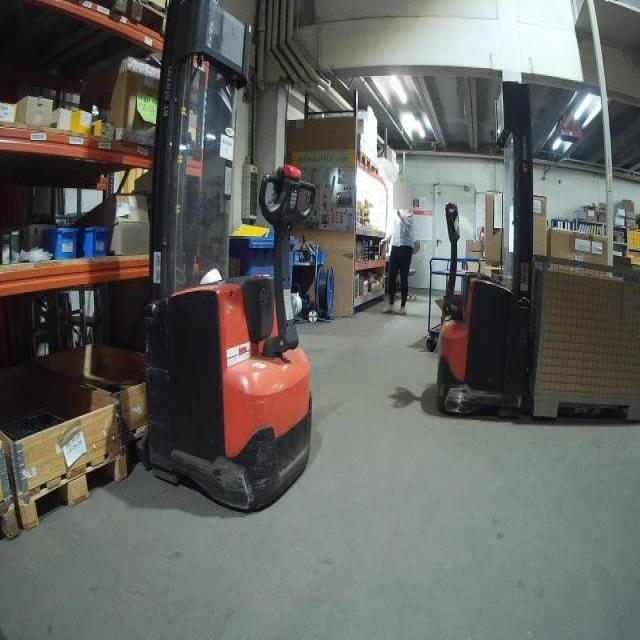pallet: (21, 443, 130, 534), (79, 2, 130, 26), (128, 5, 172, 30), (1, 495, 18, 551)
pallet_truck: (132, 3, 326, 526), (420, 65, 539, 427)
small_load_carrier: (42, 226, 78, 258), (81, 225, 108, 257)
stillage: (526, 251, 638, 426)
